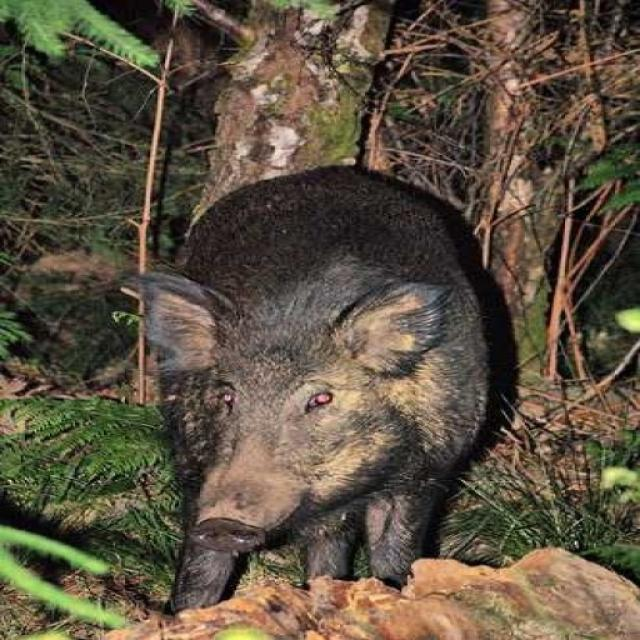pig: (104, 123, 509, 622)
